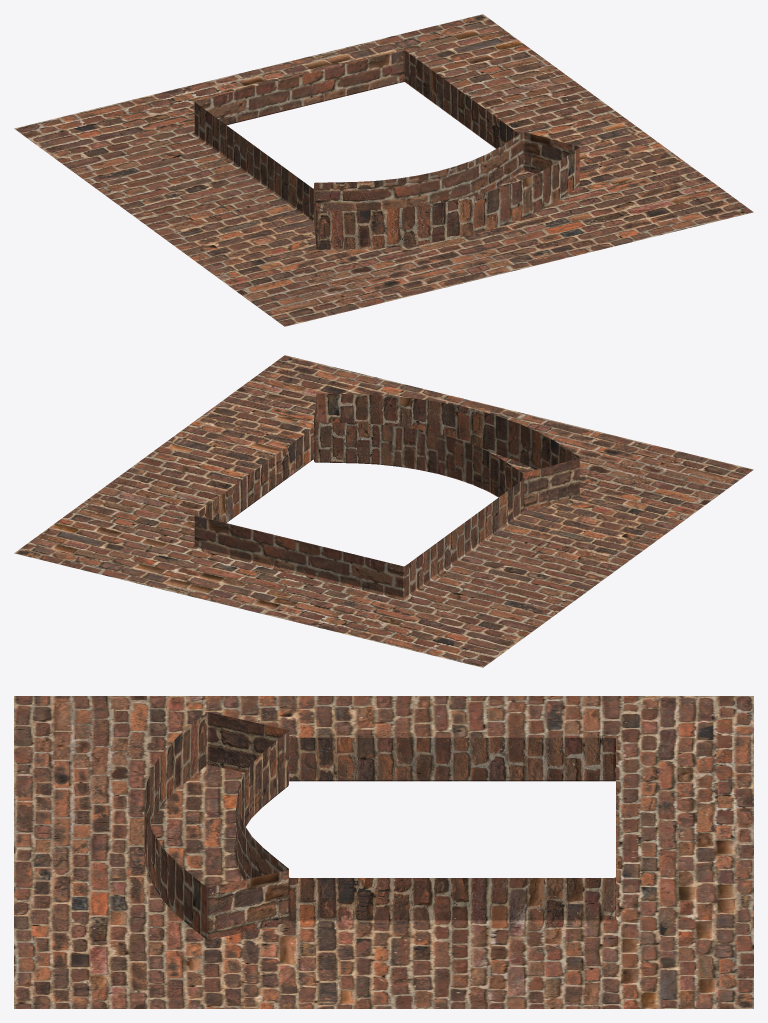
Rendered from wall_window_centered_medium_02.gltf.
3 views of the same model, one above another, from view 1: azimuth 30°, elevation 25°; view 2: azimuth 150°, elevation 25°; view 3: azimuth 270°, elevation 25° (orthographic). The views are drawn at different scales.
Parts seen in each view (by area): view 1: wall_window_centered_medium_02; view 2: wall_window_centered_medium_02; view 3: wall_window_centered_medium_02.
Boxes of the visible parts, box(x1,y1,x2,y2) form: wall_window_centered_medium_02: box(14, 14, 753, 326); wall_window_centered_medium_02: box(14, 355, 753, 667); wall_window_centered_medium_02: box(14, 696, 753, 1008).
Size of the model in its own units: 3 by 0.25 by 3.
Materials: 1 (1 with a texture image).
